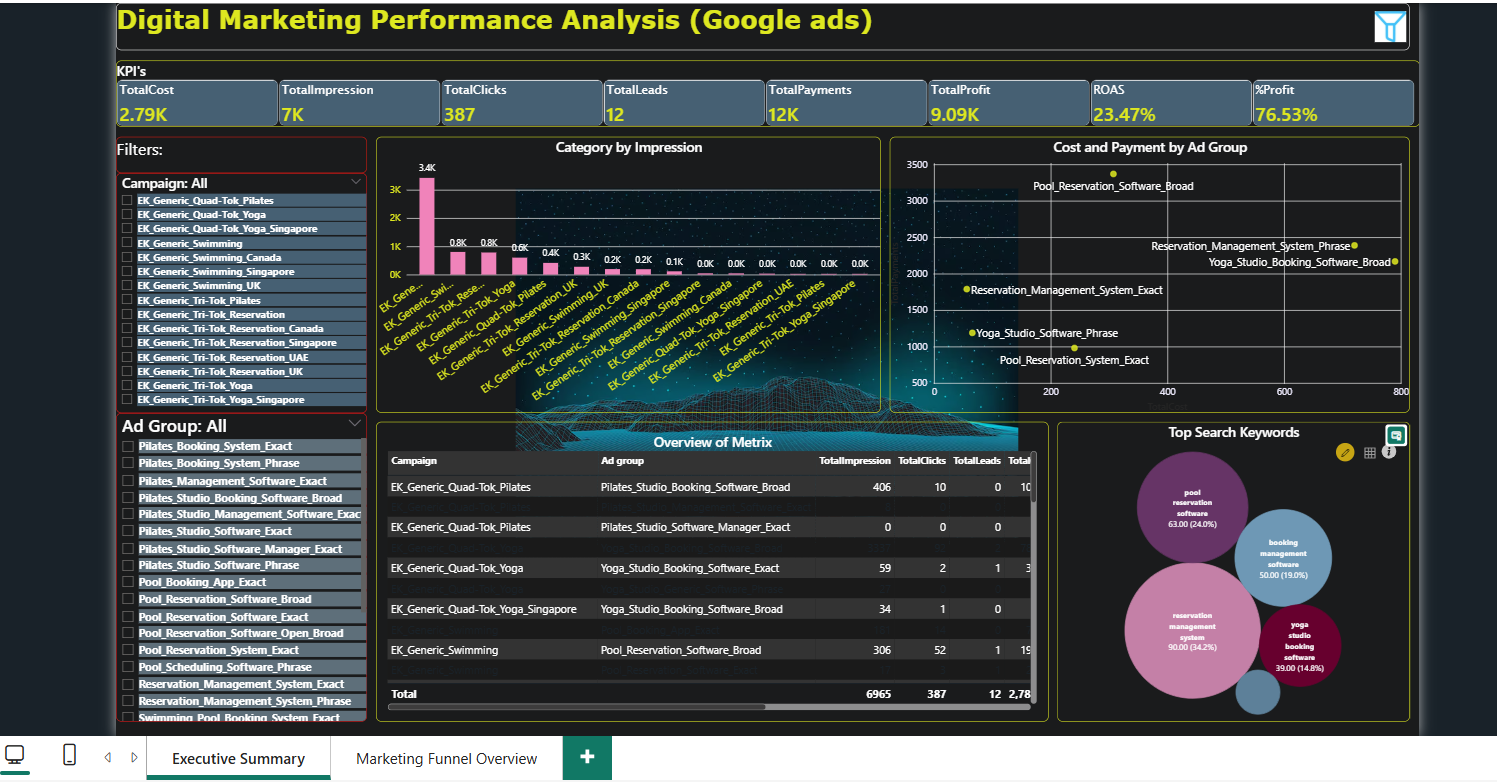

The dashboard page shown, as its layout file describes it:
{"tool":"powerbi","page":{"name":"Executive Summary","canvas":[1920,1080],"ordinal":0},"visuals":[{"type":"packedBubble563FBEFA65CC43A48496B6BB533D9890","title":"Top Search Keywords","fields":{"category":["Google Ads Data.Search Keyword"],"measure":["CountNonNull(Google Ads Data.Search Keyword)"]},"box":[1385.9,616.6,519,441.7],"z":0},{"type":"textbox","box":[0,0,1904.9,69.9],"z":1},{"type":"cardVisual","title":"KPI''s","fields":{"Data":["1MeasureTable.TotalCost","1MeasureTable.TotalImpression","1MeasureTable.TotalClicks","1MeasureTable.TotalLeads","1MeasureTable.TotalPayments","1MeasureTable.TotalProfit","1MeasureTable.ROAS","1MeasureTable.%Profit"]},"box":[0,84.7,1919.6,97.5],"z":2},{"type":"slicer","fields":{"Values":["Google Ads Data.Campaign"]},"box":[0,250.3,369.9,353.4],"z":3},{"type":"slicer","fields":{"Values":["Google Ads Data.Ad group"]},"box":[0,603.7,369.9,454.6],"z":4},{"type":"textbox","box":[0,196.9,369.9,53.4],"z":5},{"type":"clusteredColumnChart","title":"Category by Impression","fields":{"Category":["Google Ads Data.Campaign"],"Y":["1MeasureTable.TotalImpression"]},"box":[382.8,196.9,743.6,406.8],"z":6},{"type":"scatterChart","title":"Cost and Payment by Ad Group","fields":{"Category":["Google Ads Data.Ad group"],"X":["1MeasureTable.TotalCost"],"Y":["1MeasureTable.TotalPayments"]},"box":[1139.3,196.9,765.6,406.8],"z":7},{"type":"tableEx","title":"Overview of Metrix","fields":{"Values":["Google Ads Data.Campaign","Google Ads Data.Ad group","1MeasureTable.TotalImpression","1MeasureTable.TotalClicks","1MeasureTable.TotalLeads","1MeasureTable.TotalCost","1MeasureTable.CTR","1MeasureTable.CPL","1MeasureTable.CPC","1MeasureTable.LeadConversionRate(LCR)","1MeasureTable.ROAS","1MeasureTable.TotalPayments"]},"box":[382.8,616.6,990.2,441.7],"z":8},{"type":"image","box":[1853.4,0,46,69.9],"z":9}]}

Visuals, with their boxes on the page's 1920x1080 design canvas (x1, y1, x2, y2). These are canvas units, not pixel positions in the 1497x782 screenshot, which may show the page scaled, cropped or inside an application window:
"Top Search Keywords" packedBubble563FBEFA65CC43A48496B6BB533D9890: 1386,617,1905,1058
textbox: 0,0,1905,70
"KPI''s" cardVisual: 0,85,1920,182
slicer - Google Ads Data.Campaign: 0,250,370,604
slicer - Google Ads Data.Ad group: 0,604,370,1058
textbox: 0,197,370,250
"Category by Impression" clusteredColumnChart: 383,197,1126,604
"Cost and Payment by Ad Group" scatterChart: 1139,197,1905,604
"Overview of Metrix" tableEx: 383,617,1373,1058
image: 1853,0,1899,70
